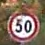limite 50: (6, 8, 40, 42)
